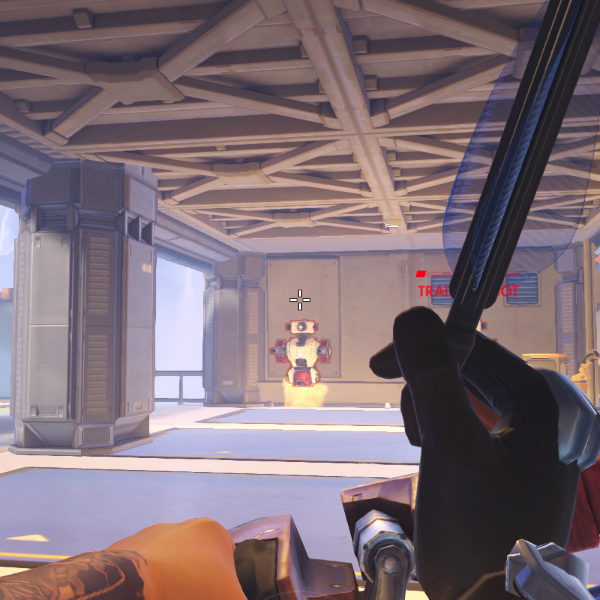hpbar: (416, 270, 519, 277)
